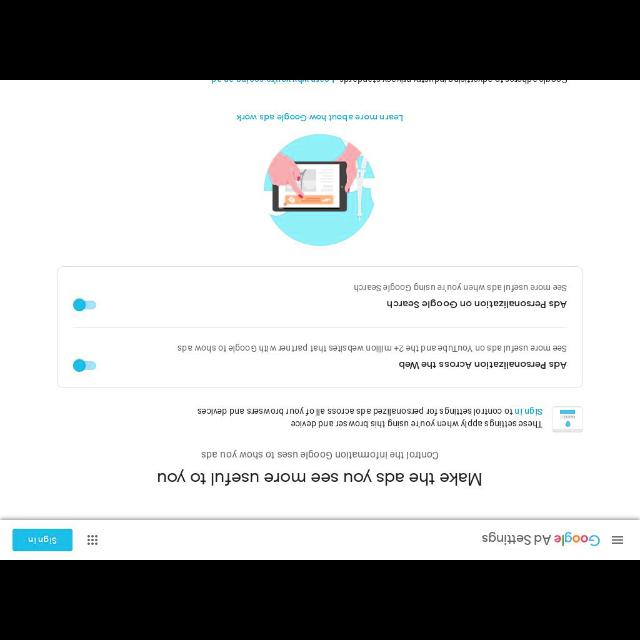icon: (612, 536, 622, 544), (88, 536, 98, 544)
image: (262, 134, 376, 246), (482, 532, 600, 546), (552, 406, 582, 432)
switch: (74, 358, 96, 372), (72, 299, 96, 311)
text: (198, 407, 542, 427), (158, 468, 482, 486), (178, 343, 566, 352), (202, 451, 438, 459), (354, 283, 566, 291), (388, 300, 566, 308), (237, 113, 403, 121), (399, 362, 566, 368), (28, 536, 56, 544)
textbutton: (12, 529, 72, 551)
toolbar: (1, 518, 640, 560)
